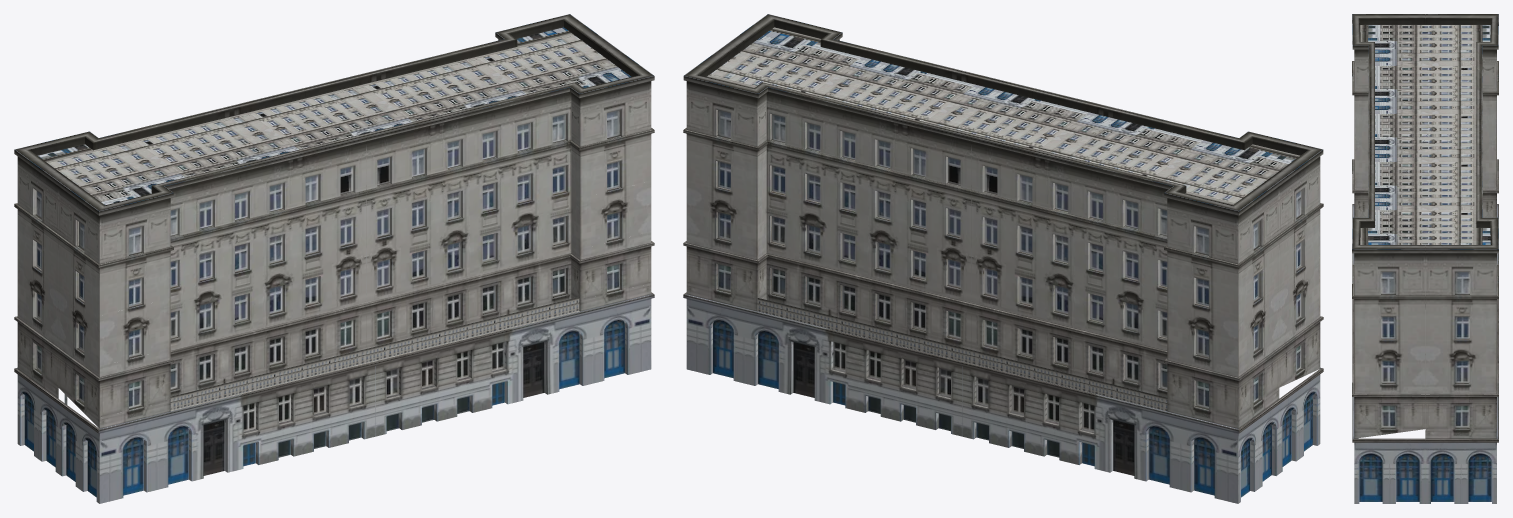
Rendered from Building2.glb.
3 renders of one model, left to right at view 1: azimuth 30°, elevation 25°; view 2: azimuth 150°, elevation 25°; view 3: azimuth 270°, elevation 25°, orthographic. The views are drawn at different scales.
Parts seen in each view (by area): view 1: 002-0-3; view 2: 002-0-3; view 3: 002-0-3.
Part boxes in pixels (left/top/right/bottom): 002-0-3: left=14, top=14, right=654, bottom=503; 002-0-3: left=683, top=14, right=1323, bottom=503; 002-0-3: left=1352, top=14, right=1498, bottom=503.
Bounding box in the file's own units: 0.0562 × 0.0284 × 0.0148.
Materials: 2 (2 with a texture image).
